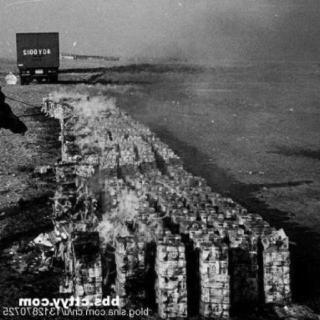Fire: (55, 176, 167, 253), (42, 79, 121, 157)
Smoke: (121, 2, 319, 168)
